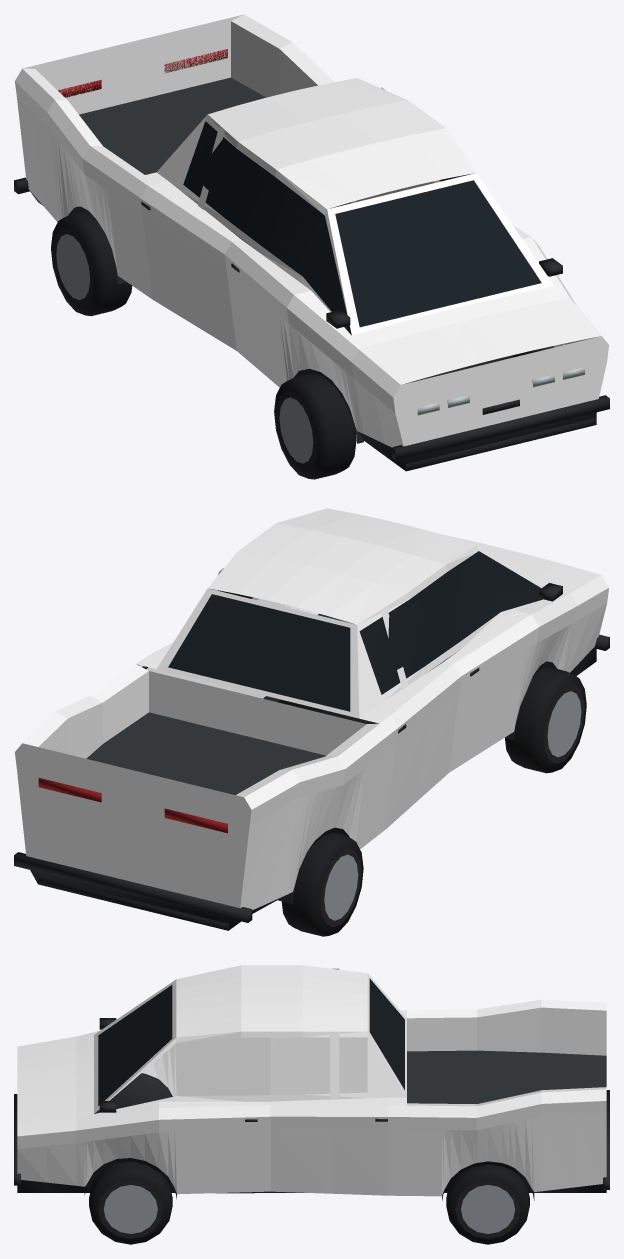
The model's file is hoshino_capim.glb.
3 renders of one model, top to bottom at view 1: azimuth 30°, elevation 25°; view 2: azimuth 150°, elevation 25°; view 3: azimuth 270°, elevation 25°, orthographic. The views are drawn at different scales.
Parts seen in each view (by area): view 1: Body_Paint, Body_Details, Mount_FrontLeft_Wheel_Details, Mount_RearLeft_Wheel_Details; view 2: Body_Paint, Body_Details, Mount_FrontLeft_Wheel_Details, Mount_RearLeft_Wheel_Details; view 3: Body_Paint, Body_Details, Mount_FrontRight_Wheel_Details, Mount_RearRight_Wheel_Details.
Part boxes in pixels (box(x1,y1,x2,y2)): Body_Paint: box(15, 14, 608, 447); Body_Details: box(14, 49, 609, 471); Mount_FrontLeft_Wheel_Details: box(274, 373, 356, 479); Mount_RearLeft_Wheel_Details: box(51, 211, 132, 316); Body_Paint: box(15, 508, 608, 910); Body_Details: box(14, 551, 609, 930); Mount_FrontLeft_Wheel_Details: box(505, 666, 586, 773); Mount_RearLeft_Wheel_Details: box(281, 832, 363, 936); Body_Paint: box(17, 965, 606, 1196); Body_Details: box(14, 978, 609, 1200); Mount_FrontRight_Wheel_Details: box(89, 1161, 172, 1244); Mount_RearRight_Wheel_Details: box(446, 1164, 529, 1244).
Size of the model in its own units: 1.96 by 1.73 by 4.7.
2 materials, 1 textured.
